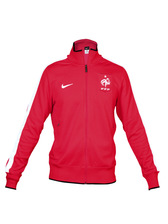clothoes: (7, 37, 161, 196)
